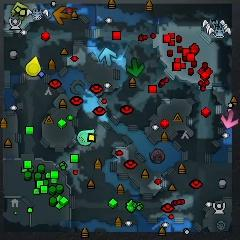p2: (77, 129, 95, 145)
p4: (26, 55, 41, 77)
x1: (221, 111, 239, 129)
x2: (12, 2, 29, 20)
x3: (100, 48, 116, 66)
x4: (127, 58, 144, 77)
x5: (52, 7, 71, 24)
